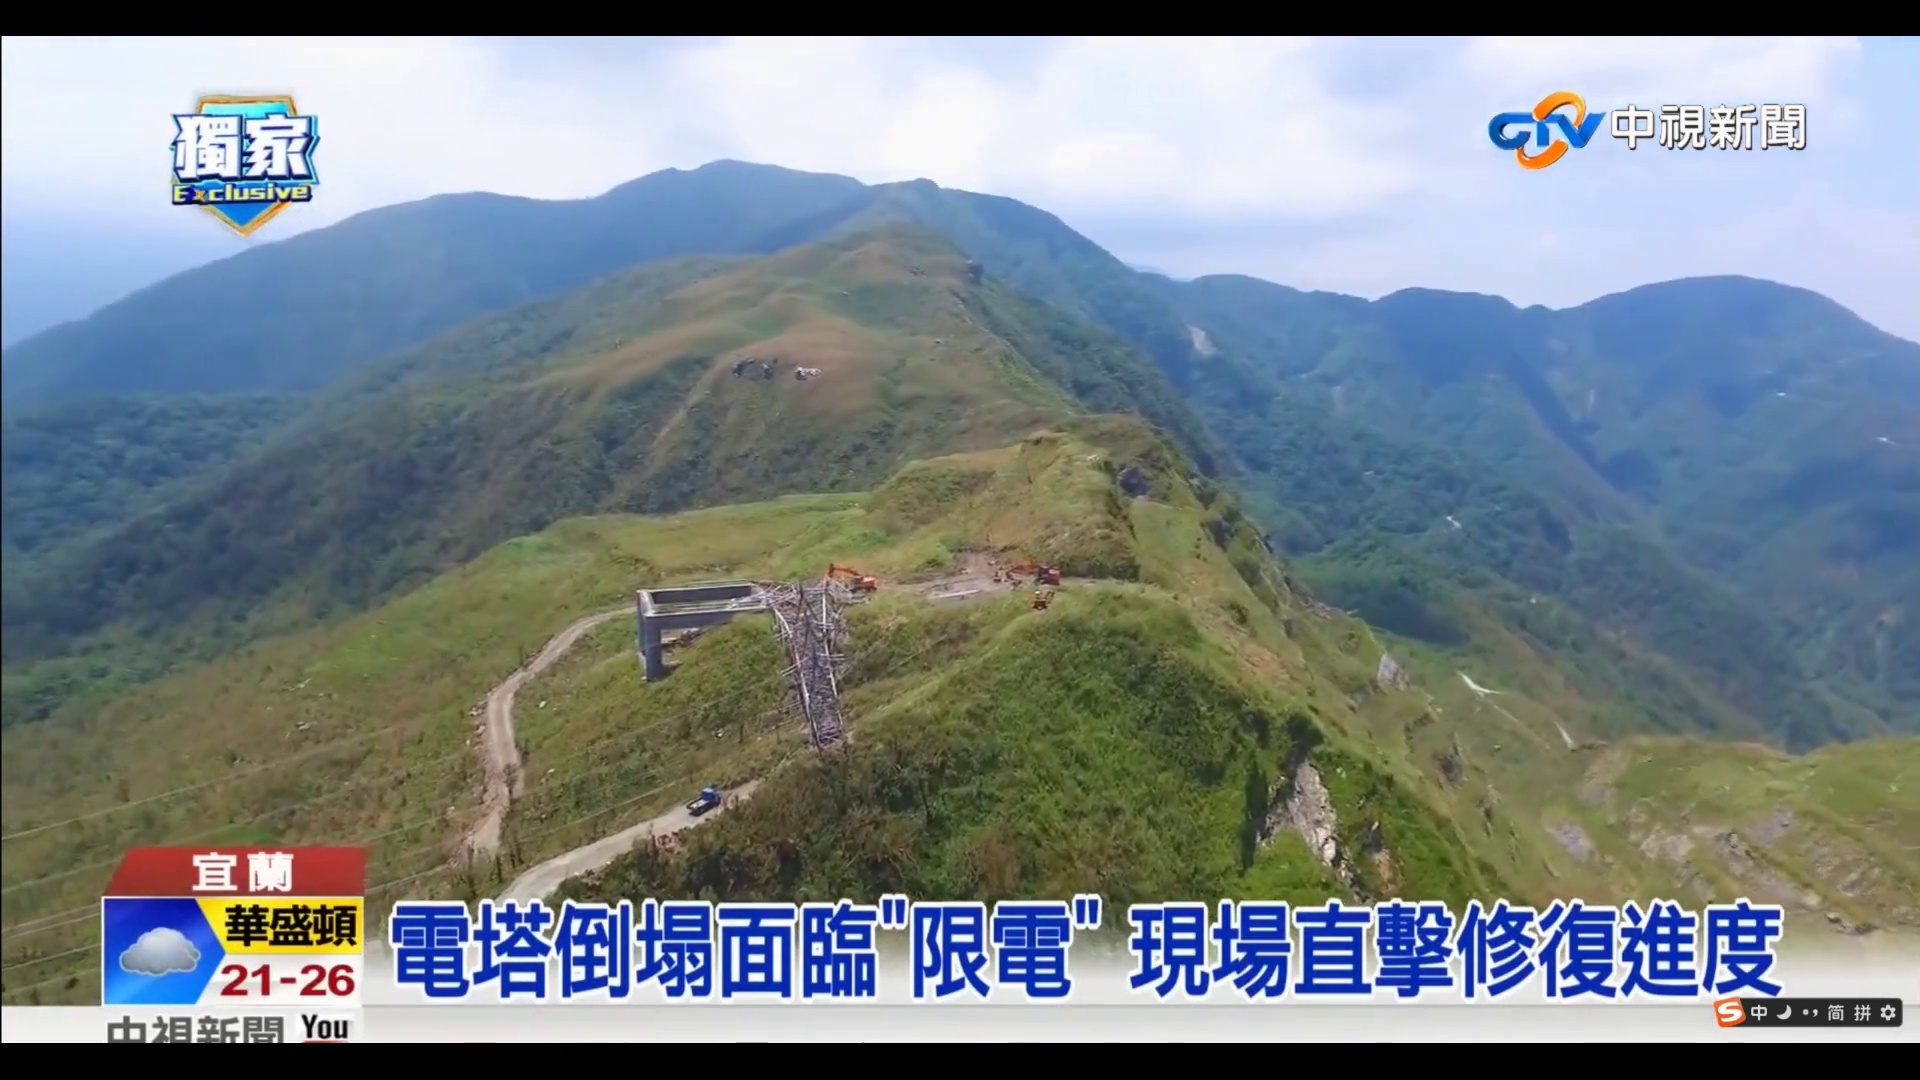tower_down: (756, 567, 872, 767)
